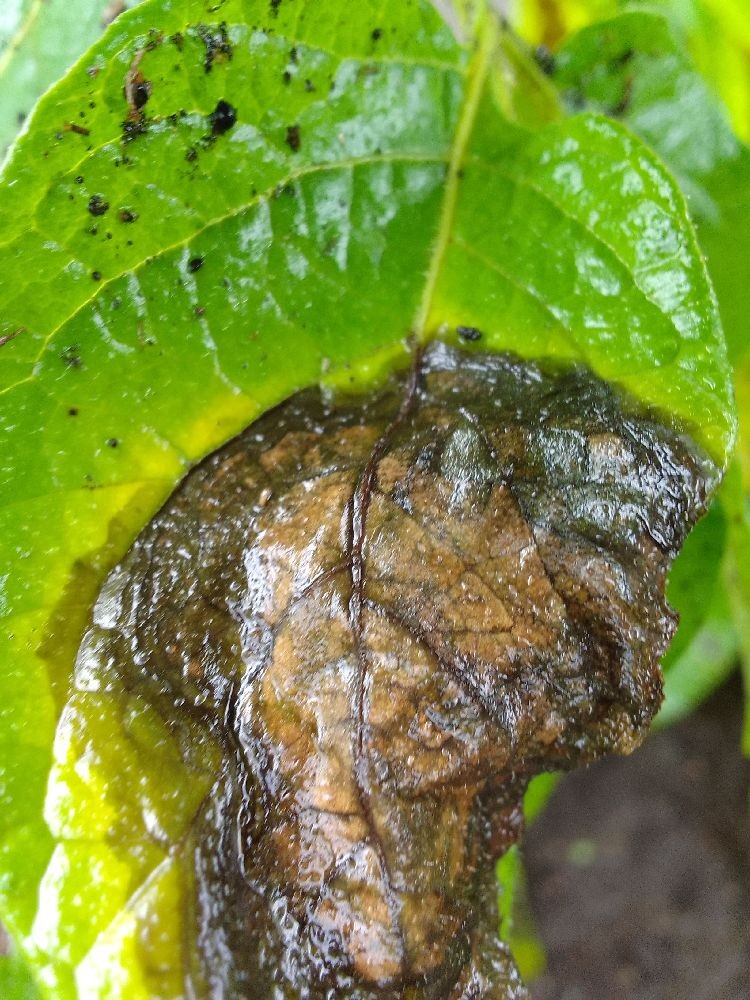late_blight: (28, 326, 749, 999)
